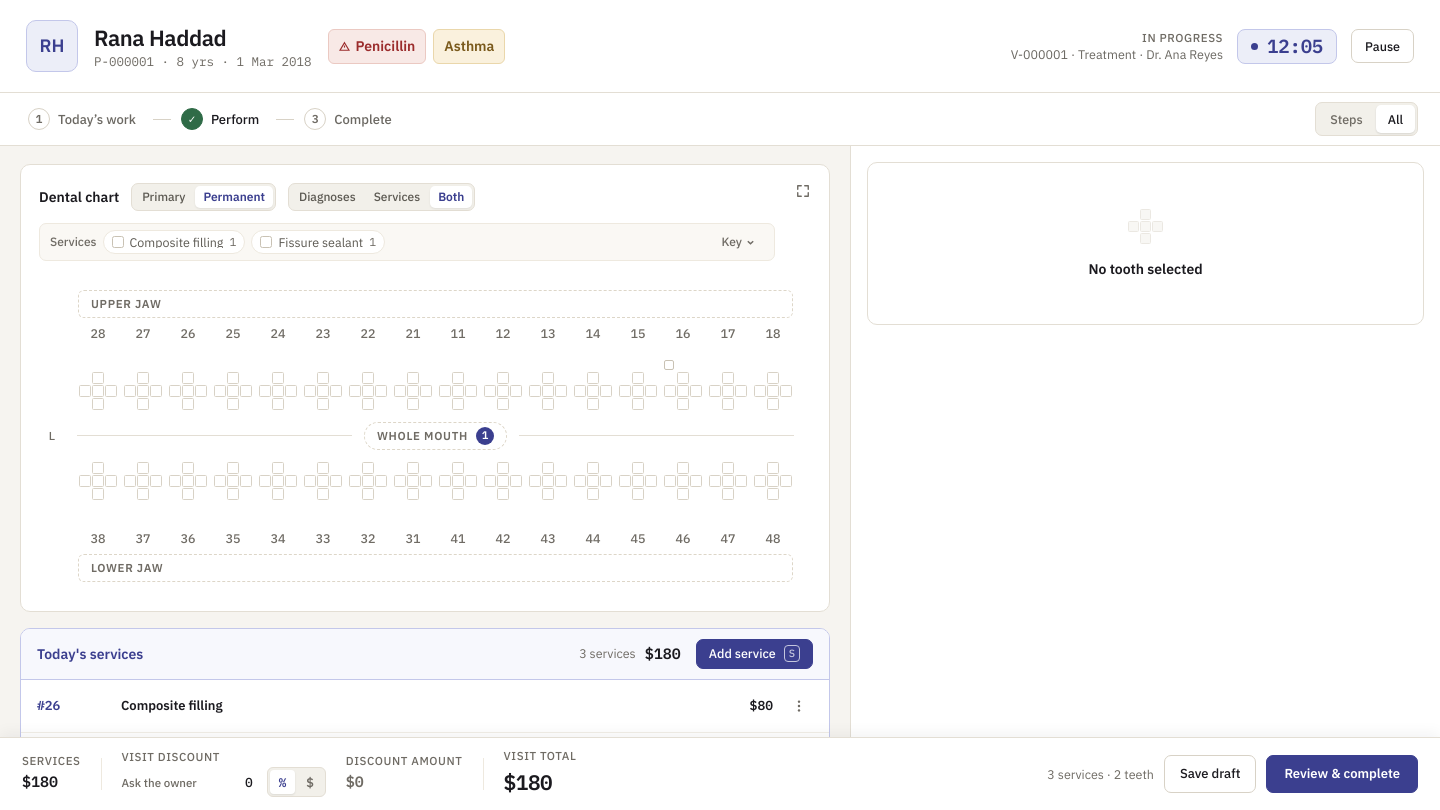
Test: VisitSummaryDialog › shows the over-subtotal cap warning
The image size is (1440, 810).
Expected: the element named "Upper arch" is shown, [78,324,793,411]
Click the button "Review & complete" at (1342, 774), box [1266,755,1418,793]
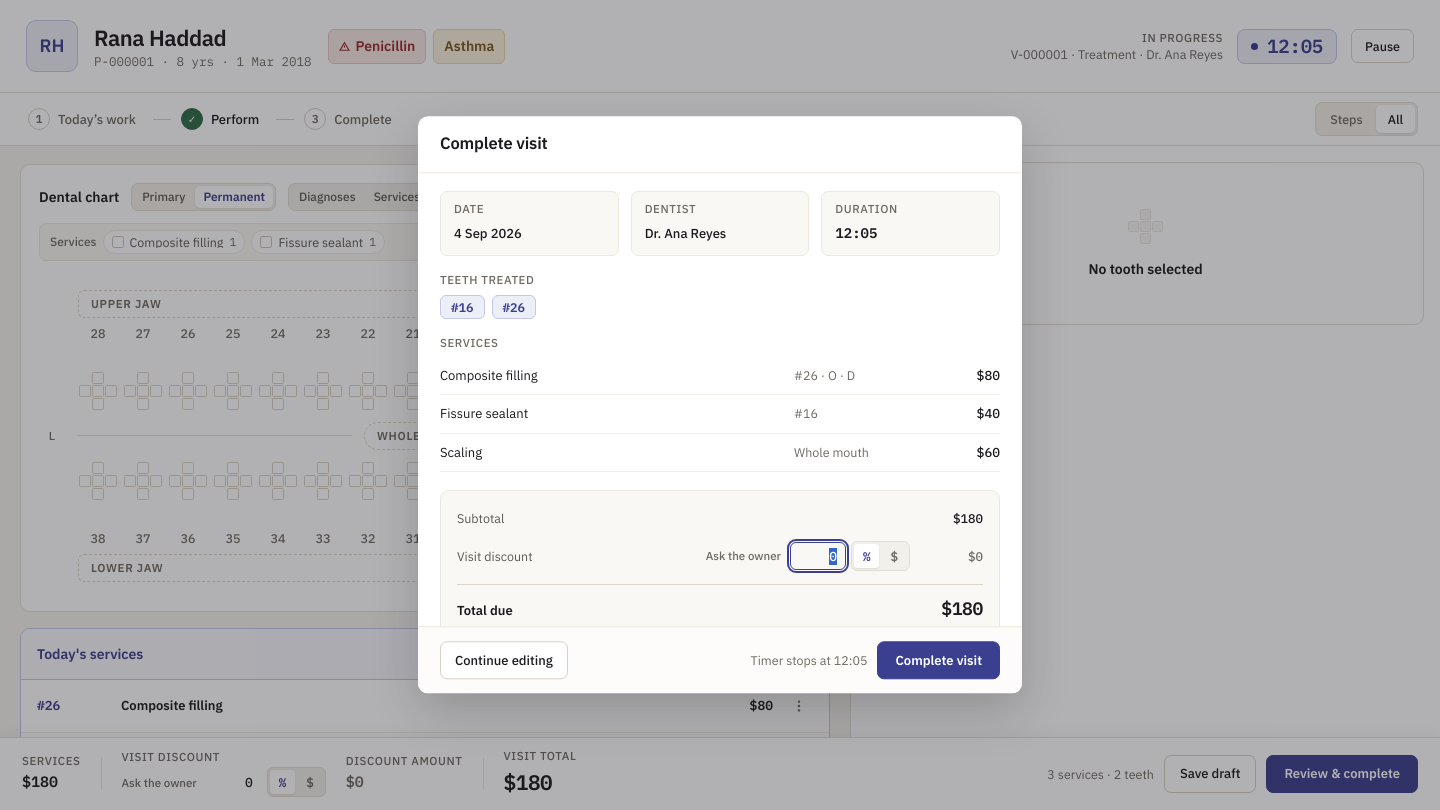
Replace the text in the field named "Visit discount value" with "120" at (818, 556), box [790,542,846,570]
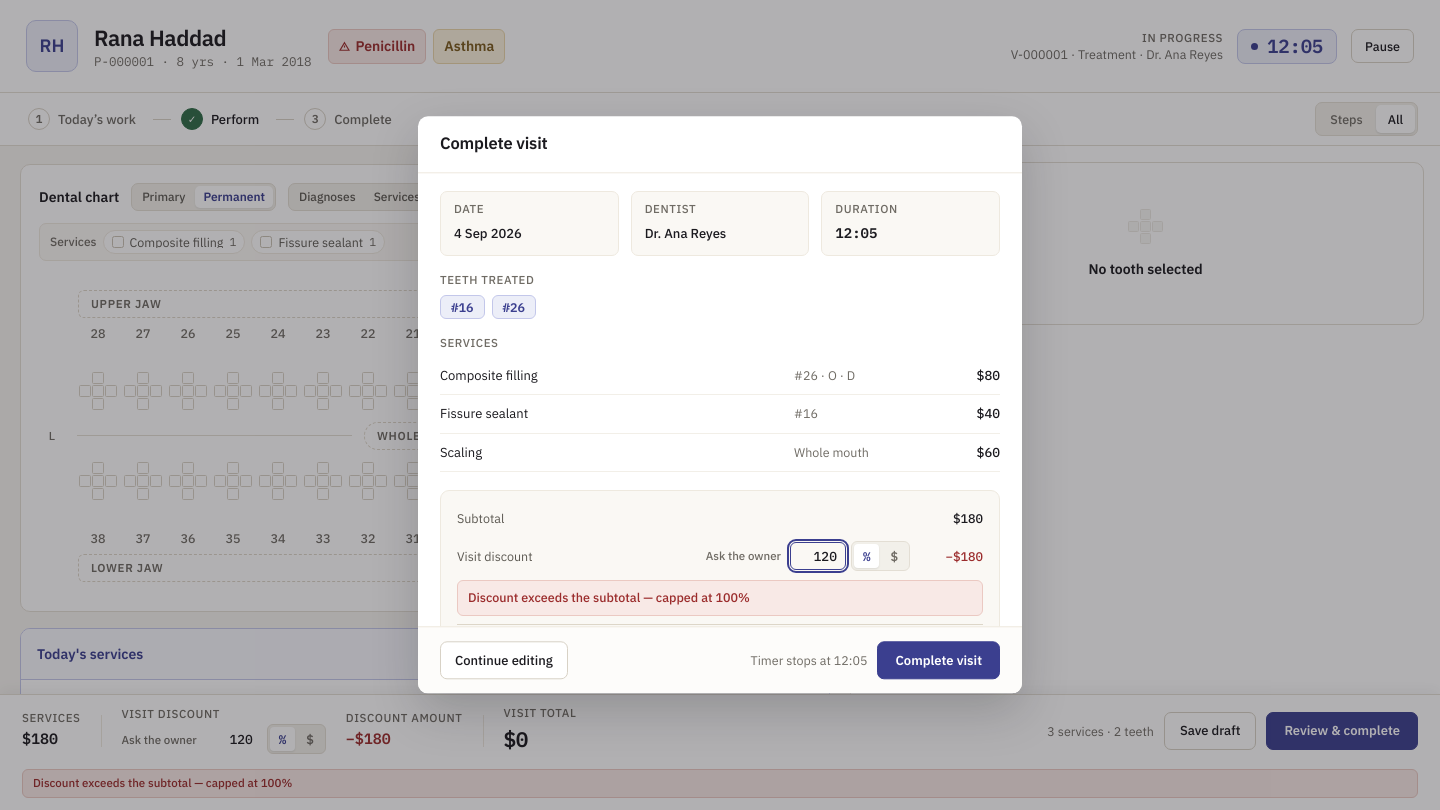
Now the message reads "Discount exceeds the subtotal — capped at 100%", box [468,589,750,605]
